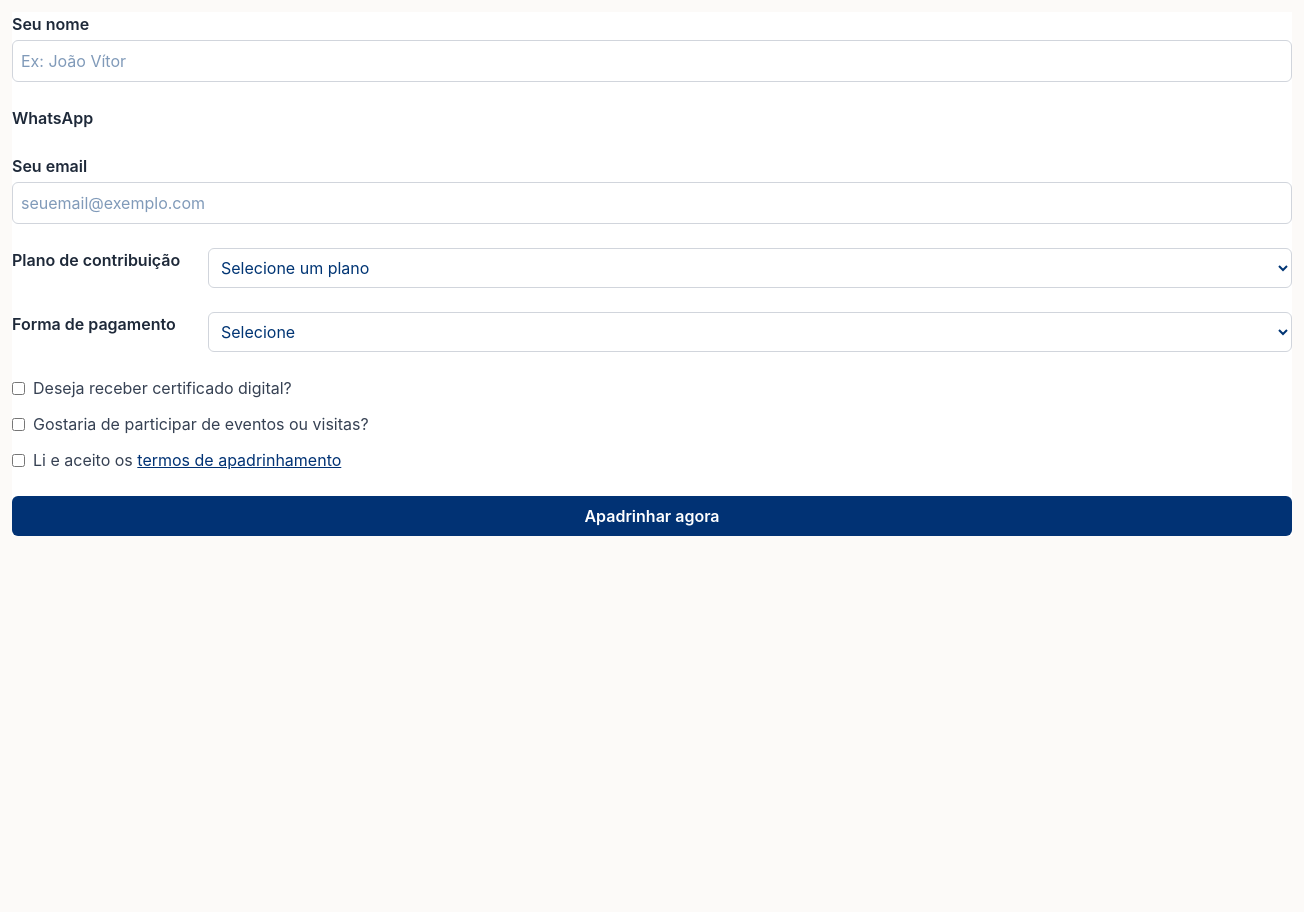
Test: <SponsorForm /> › shows validation errors when required fields are empty
Click the button with test id "submit-button".
click(652, 516)  # box 12,496 -> 1292,536
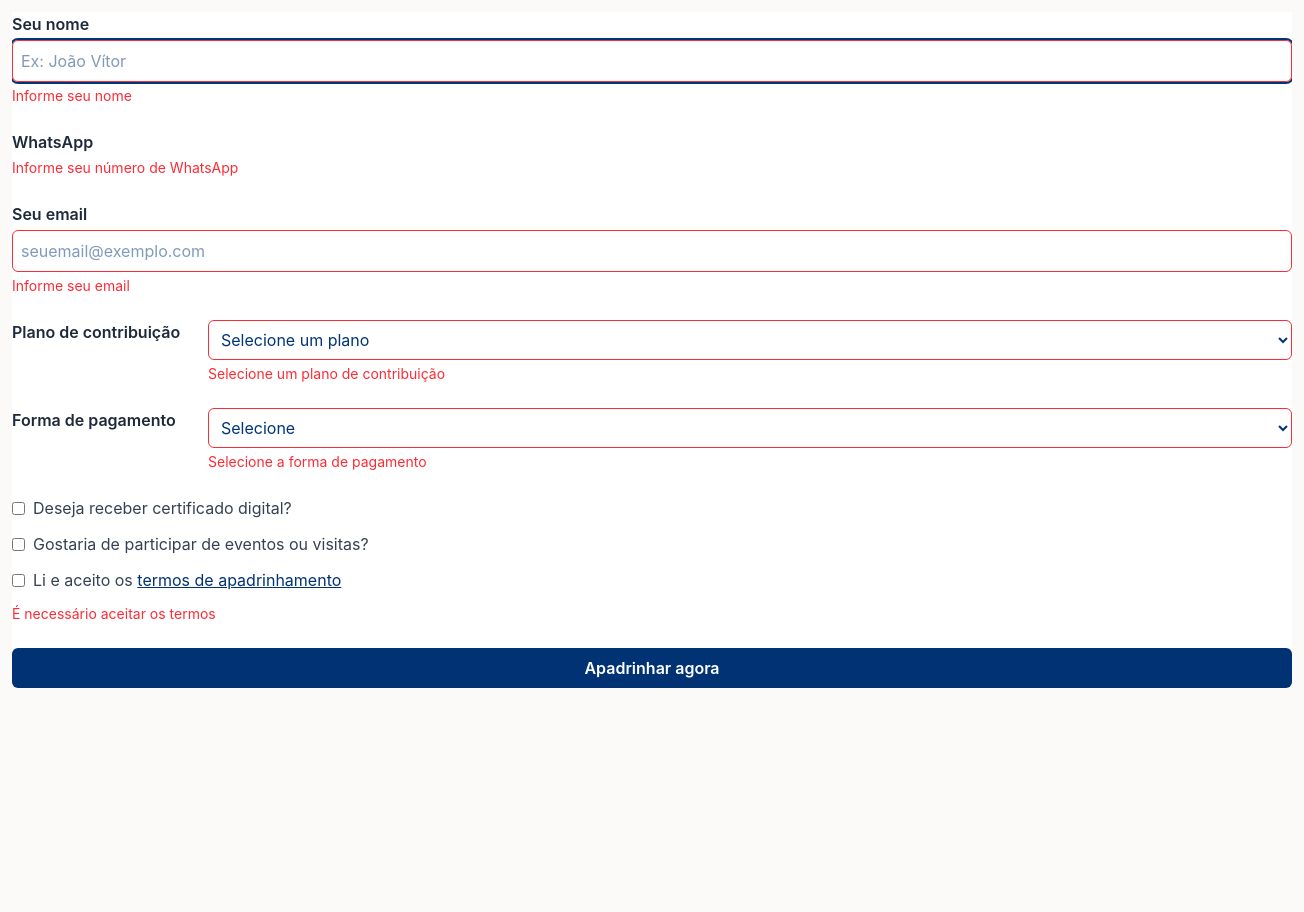
expect the text "Informe seu nome" is shown: met, box 12,87 -> 132,104
expect the text "Informe seu número de WhatsApp" is shown: met, box 12,159 -> 238,176
expect the text "Informe seu email" is shown: met, box 12,277 -> 130,294
